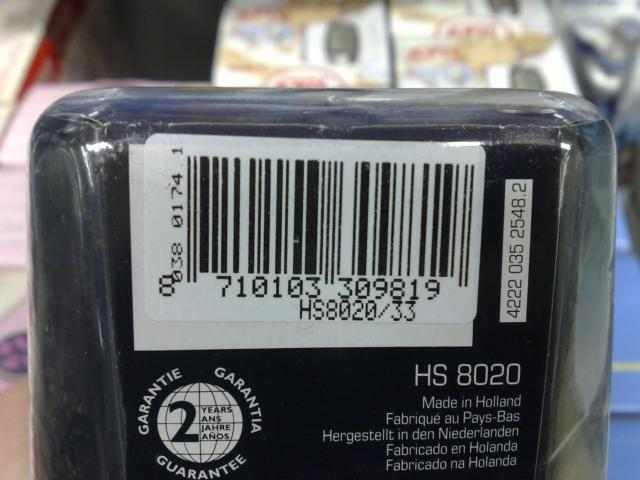Barcode: (148, 135, 479, 301)
